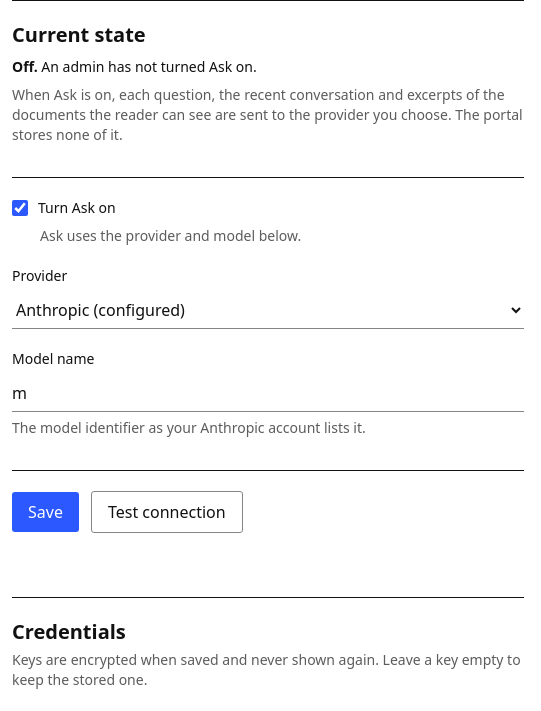
it: AskSettingsForm › saves Ask off without a provider or model
Click the switch labelled "Turn Ask on": (20,208) [12, 200, 28, 216]
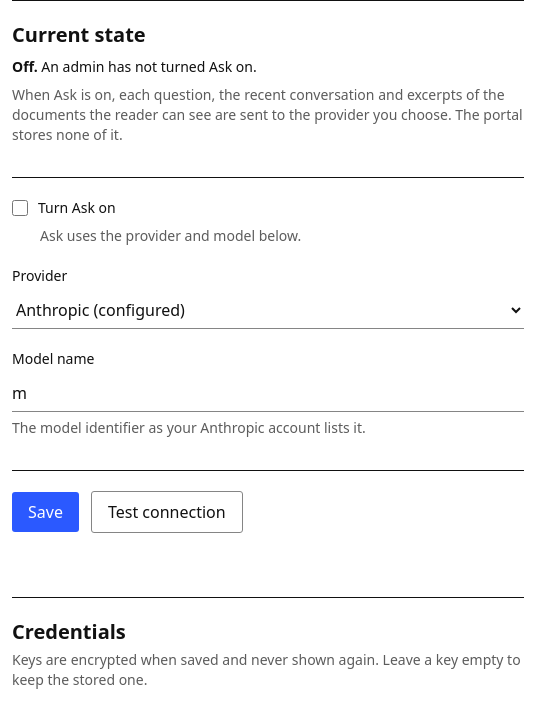
Click the button "Save": (45,512) [12, 492, 79, 532]
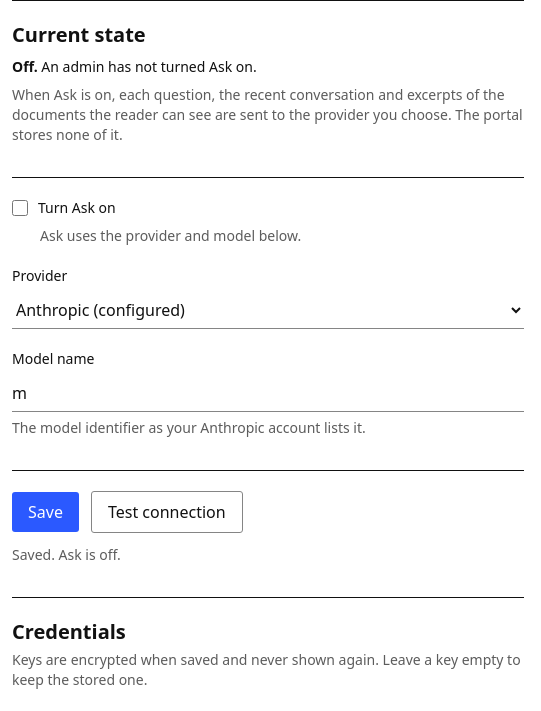
Now the message with test id "ask-admin-result" reads "Saved. Ask is off.", box [12, 545, 121, 564]
